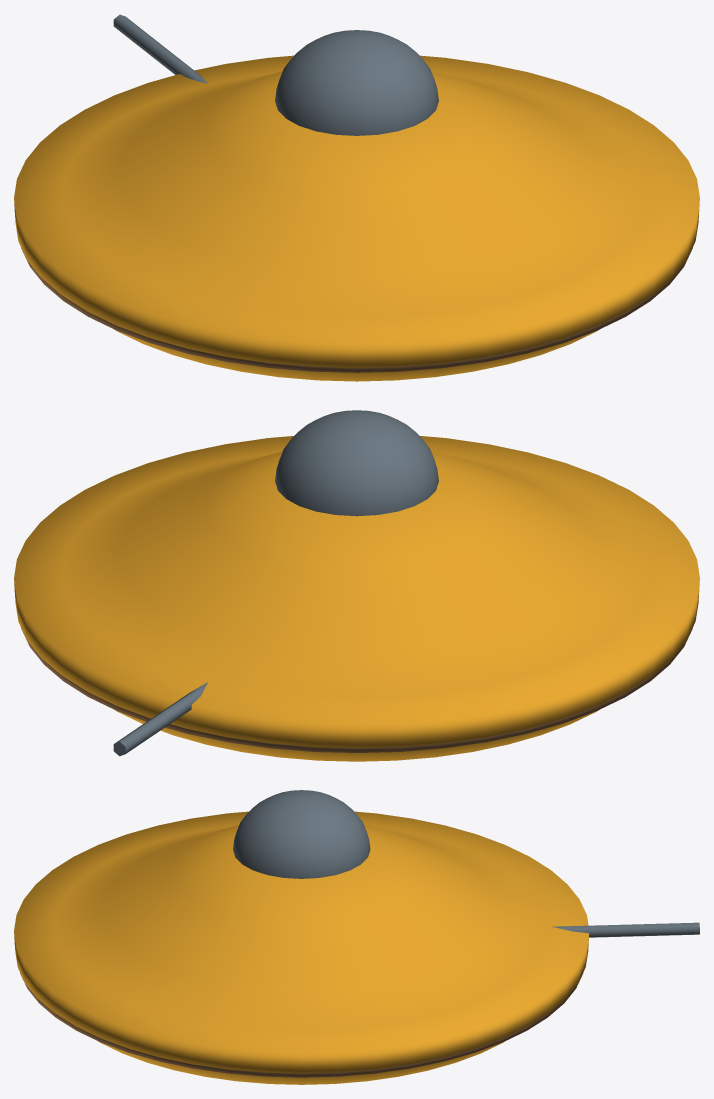
File: eagle_descent.gear_rear.main_strut.footpad.glb
3 renders of one model, top to bottom at view 1: azimuth 30°, elevation 25°; view 2: azimuth 150°, elevation 25°; view 3: azimuth 270°, elevation 25°, orthographic. The views are drawn at different scales.
Parts seen in each view (by area): view 1: eagle_descent.gear_rear.main_strut.footpad.mesh, eagle_descent.gear_rear.main_strut.footpad.contact_probe.mes; view 2: eagle_descent.gear_rear.main_strut.footpad.mesh, eagle_descent.gear_rear.main_strut.footpad.contact_probe.mes; view 3: eagle_descent.gear_rear.main_strut.footpad.mesh, eagle_descent.gear_rear.main_strut.footpad.contact_probe.mes.
Part boxes in pixels (left/top/right/bottom): eagle_descent.gear_rear.main_strut.footpad.mesh: left=14, top=30, right=699, bottom=381; eagle_descent.gear_rear.main_strut.footpad.contact_probe.mes: left=113, top=14, right=207, bottom=83; eagle_descent.gear_rear.main_strut.footpad.mesh: left=14, top=410, right=699, bottom=761; eagle_descent.gear_rear.main_strut.footpad.contact_probe.mes: left=113, top=682, right=207, bottom=756; eagle_descent.gear_rear.main_strut.footpad.mesh: left=14, top=790, right=588, bottom=1084; eagle_descent.gear_rear.main_strut.footpad.contact_probe.mes: left=552, top=922, right=699, bottom=937.
Size of the model in its own units: 0.954 by 0.355 by 1.14.
